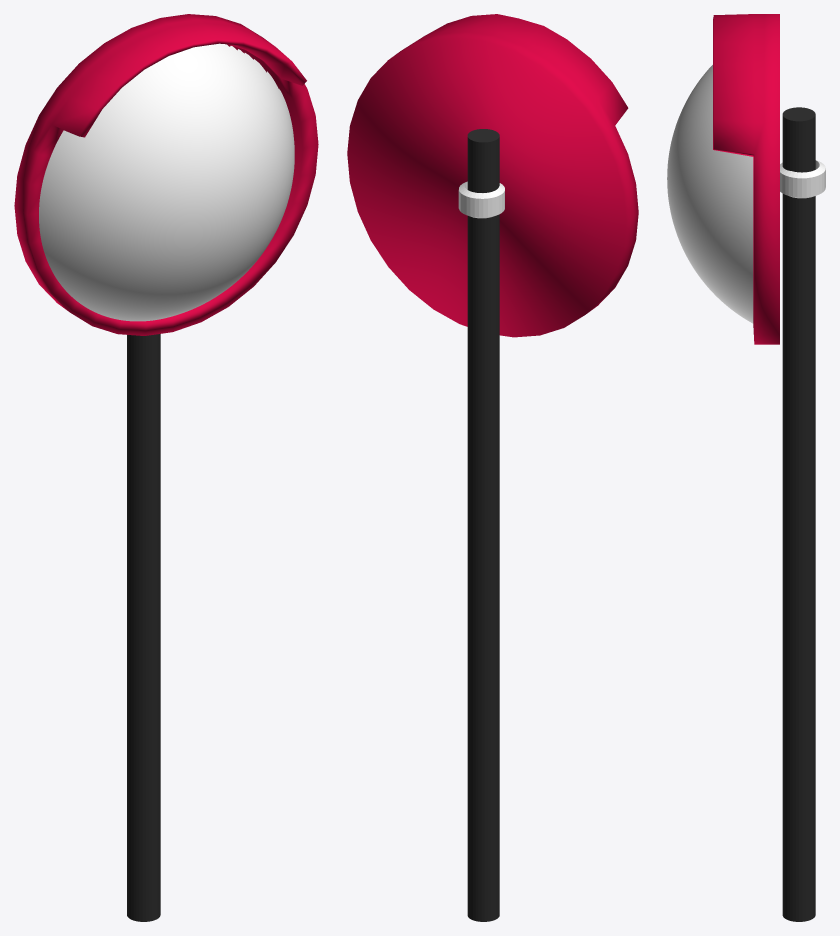
Rendered from Mirror Pole.fbx.
3 renders of one model, left to right at view 1: azimuth 30°, elevation 25°; view 2: azimuth 150°, elevation 25°; view 3: azimuth 270°, elevation 25°, orthographic. The views are drawn at different scales.
Visible parts, largest first — view 1: Traffic Mirror; view 2: Traffic Mirror; view 3: Traffic Mirror.
Boxes of the visible parts, x1=… form: Traffic Mirror: x1=14, y1=14, x2=318, y2=921; Traffic Mirror: x1=347, y1=14, x2=638, y2=921; Traffic Mirror: x1=667, y1=14, x2=825, y2=921.
Bounding box in the file's own units: 95.89 × 200 × 592.
